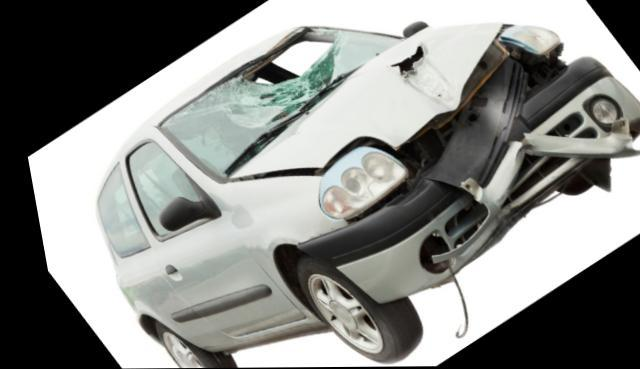crack: (387, 44, 423, 78), (505, 132, 528, 164)
dent: (400, 57, 459, 110)
dislocated part: (389, 48, 640, 264)
glass shatter: (156, 27, 403, 179)
